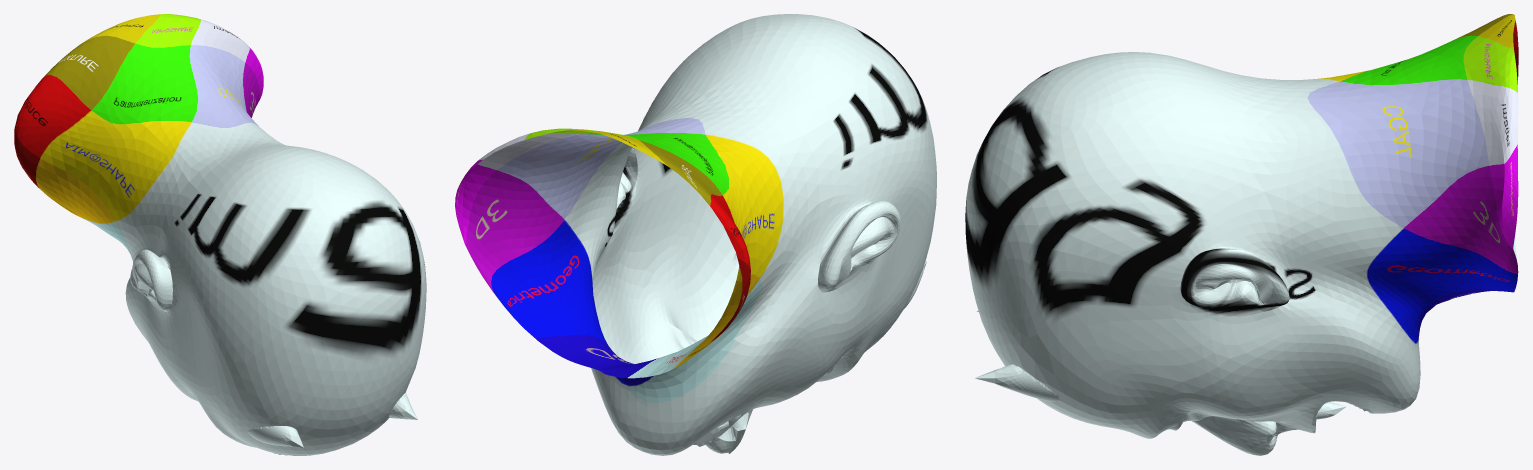
File: test_mannequin-devil_uniform_square.obj
The picture shows the model from 3 angles, left to right: view 1: azimuth 30°, elevation 25°; view 2: azimuth 150°, elevation 25°; view 3: azimuth 270°, elevation 25°; orthographic projection. The views are drawn at different scales.
Bounding box in the file's own units: 25.03 × 33.47 × 40.
Materials: 1 (1 with a texture image).
